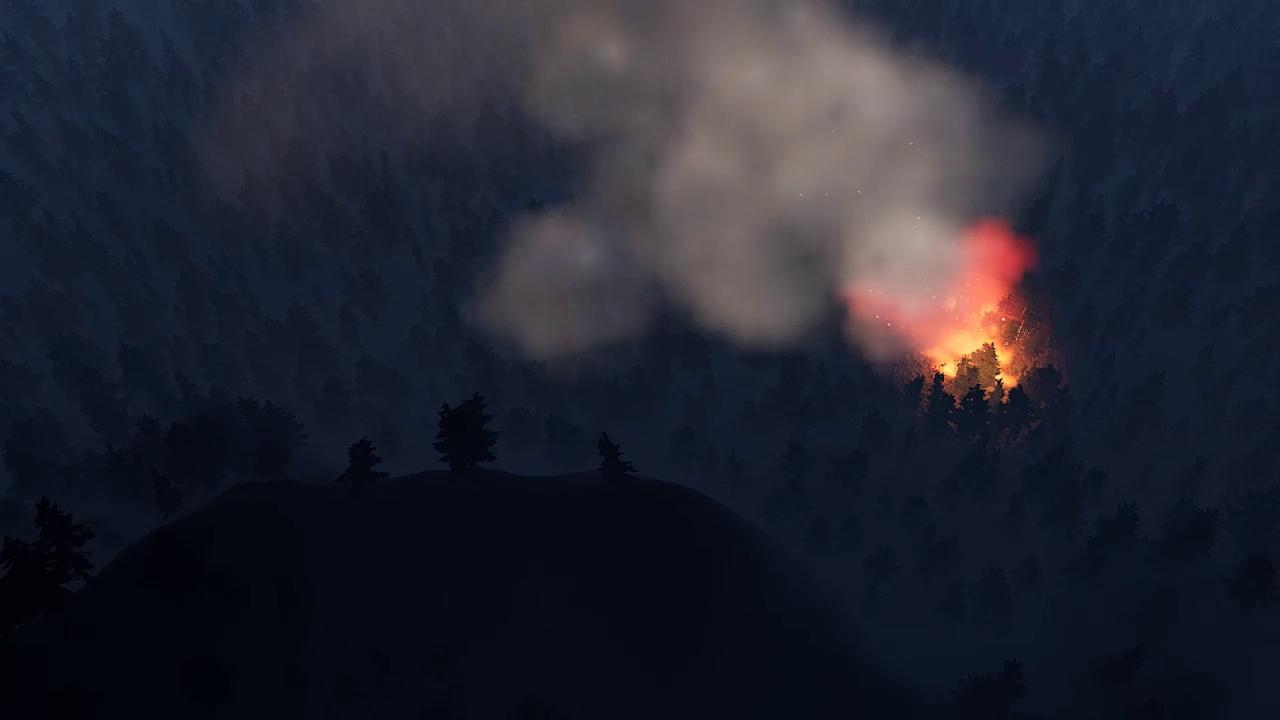fire: (865, 230, 1037, 399)
smoke: (196, 0, 1062, 366)
